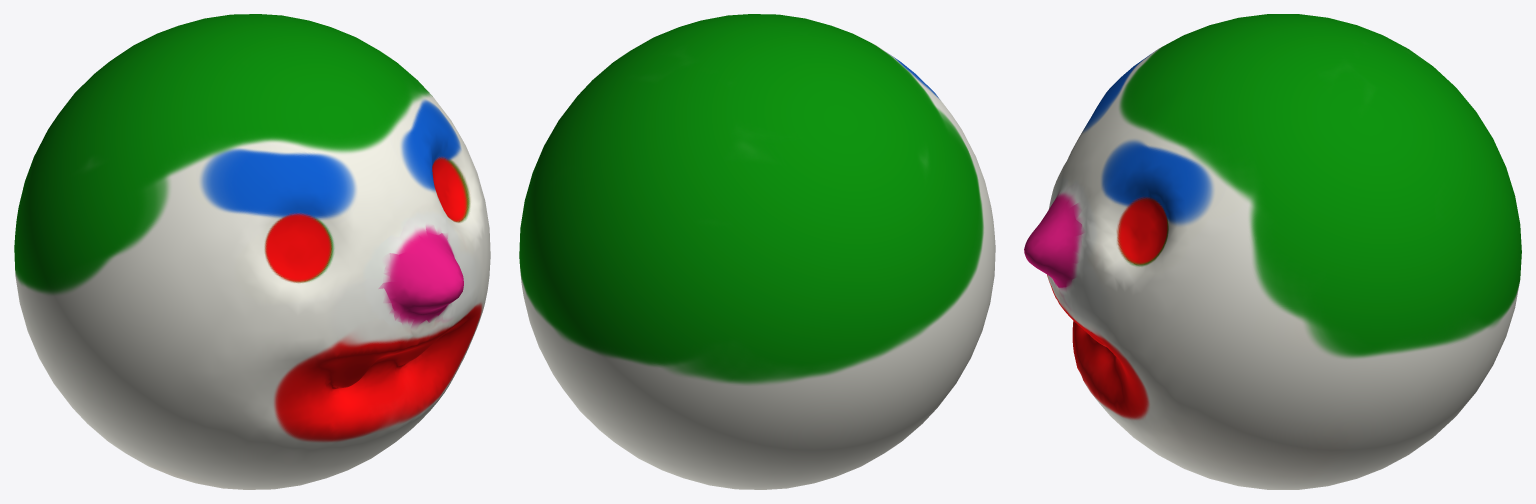
File: scareMoon.obj
3 renders of one model, left to right at view 1: azimuth 30°, elevation 25°; view 2: azimuth 150°, elevation 25°; view 3: azimuth 270°, elevation 25°, orthographic.
Size of the model in its own units: 2 by 2 by 2.09.
7 materials, 7 textured.
